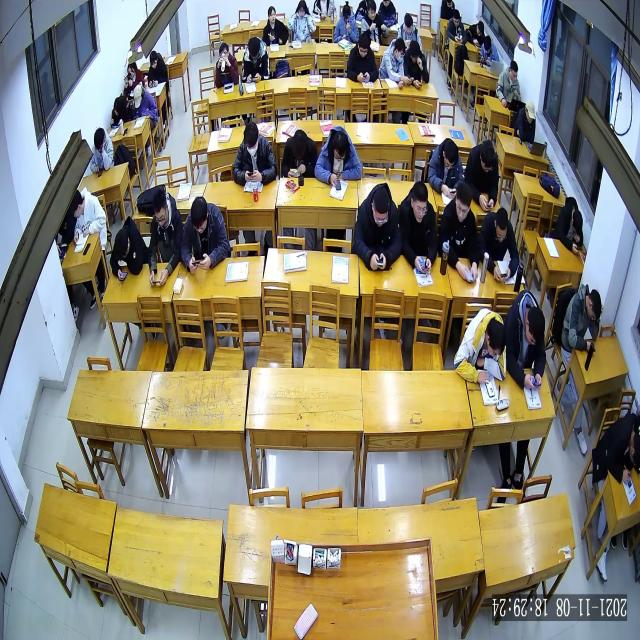bow: (505, 291, 546, 387), (454, 310, 506, 384), (314, 125, 362, 186), (479, 207, 518, 280), (110, 216, 148, 278), (556, 197, 584, 254), (380, 37, 405, 89), (466, 21, 486, 46)
down: (370, 187, 390, 228), (525, 305, 545, 344), (486, 321, 506, 357), (190, 197, 207, 232), (243, 122, 259, 156), (586, 289, 602, 321), (332, 133, 348, 162), (154, 192, 167, 227), (292, 130, 307, 160), (480, 140, 494, 172), (494, 208, 507, 242), (443, 141, 457, 170), (248, 35, 262, 63), (116, 231, 130, 257), (630, 433, 640, 469), (571, 208, 583, 232), (357, 33, 368, 56), (94, 129, 104, 151), (409, 41, 419, 63), (525, 101, 535, 123), (72, 199, 82, 218), (509, 61, 518, 81), (404, 15, 413, 34), (134, 85, 142, 106), (342, 4, 351, 22), (368, 2, 377, 20), (483, 35, 491, 52), (113, 100, 122, 115), (150, 52, 158, 68), (298, 2, 306, 18), (476, 20, 484, 36), (453, 10, 460, 27)
lookup: (410, 183, 427, 223), (455, 185, 470, 222), (218, 42, 230, 62), (268, 6, 276, 23), (127, 63, 135, 77)
sit: (353, 184, 401, 272), (439, 182, 480, 282), (182, 196, 227, 273), (147, 190, 182, 286), (400, 182, 437, 272), (592, 413, 640, 481), (560, 284, 604, 354), (233, 122, 277, 183), (464, 140, 498, 208), (428, 137, 464, 197), (71, 190, 107, 248), (282, 128, 317, 178), (347, 33, 378, 82), (242, 35, 270, 84), (214, 42, 239, 90), (405, 41, 429, 89), (288, 0, 316, 41), (496, 61, 521, 106), (90, 127, 114, 171), (360, 1, 385, 42), (263, 6, 288, 44), (333, 5, 359, 41), (397, 12, 422, 48), (515, 101, 536, 143), (132, 84, 156, 115), (447, 10, 466, 44), (480, 36, 500, 66), (124, 62, 142, 94), (110, 96, 127, 125)
